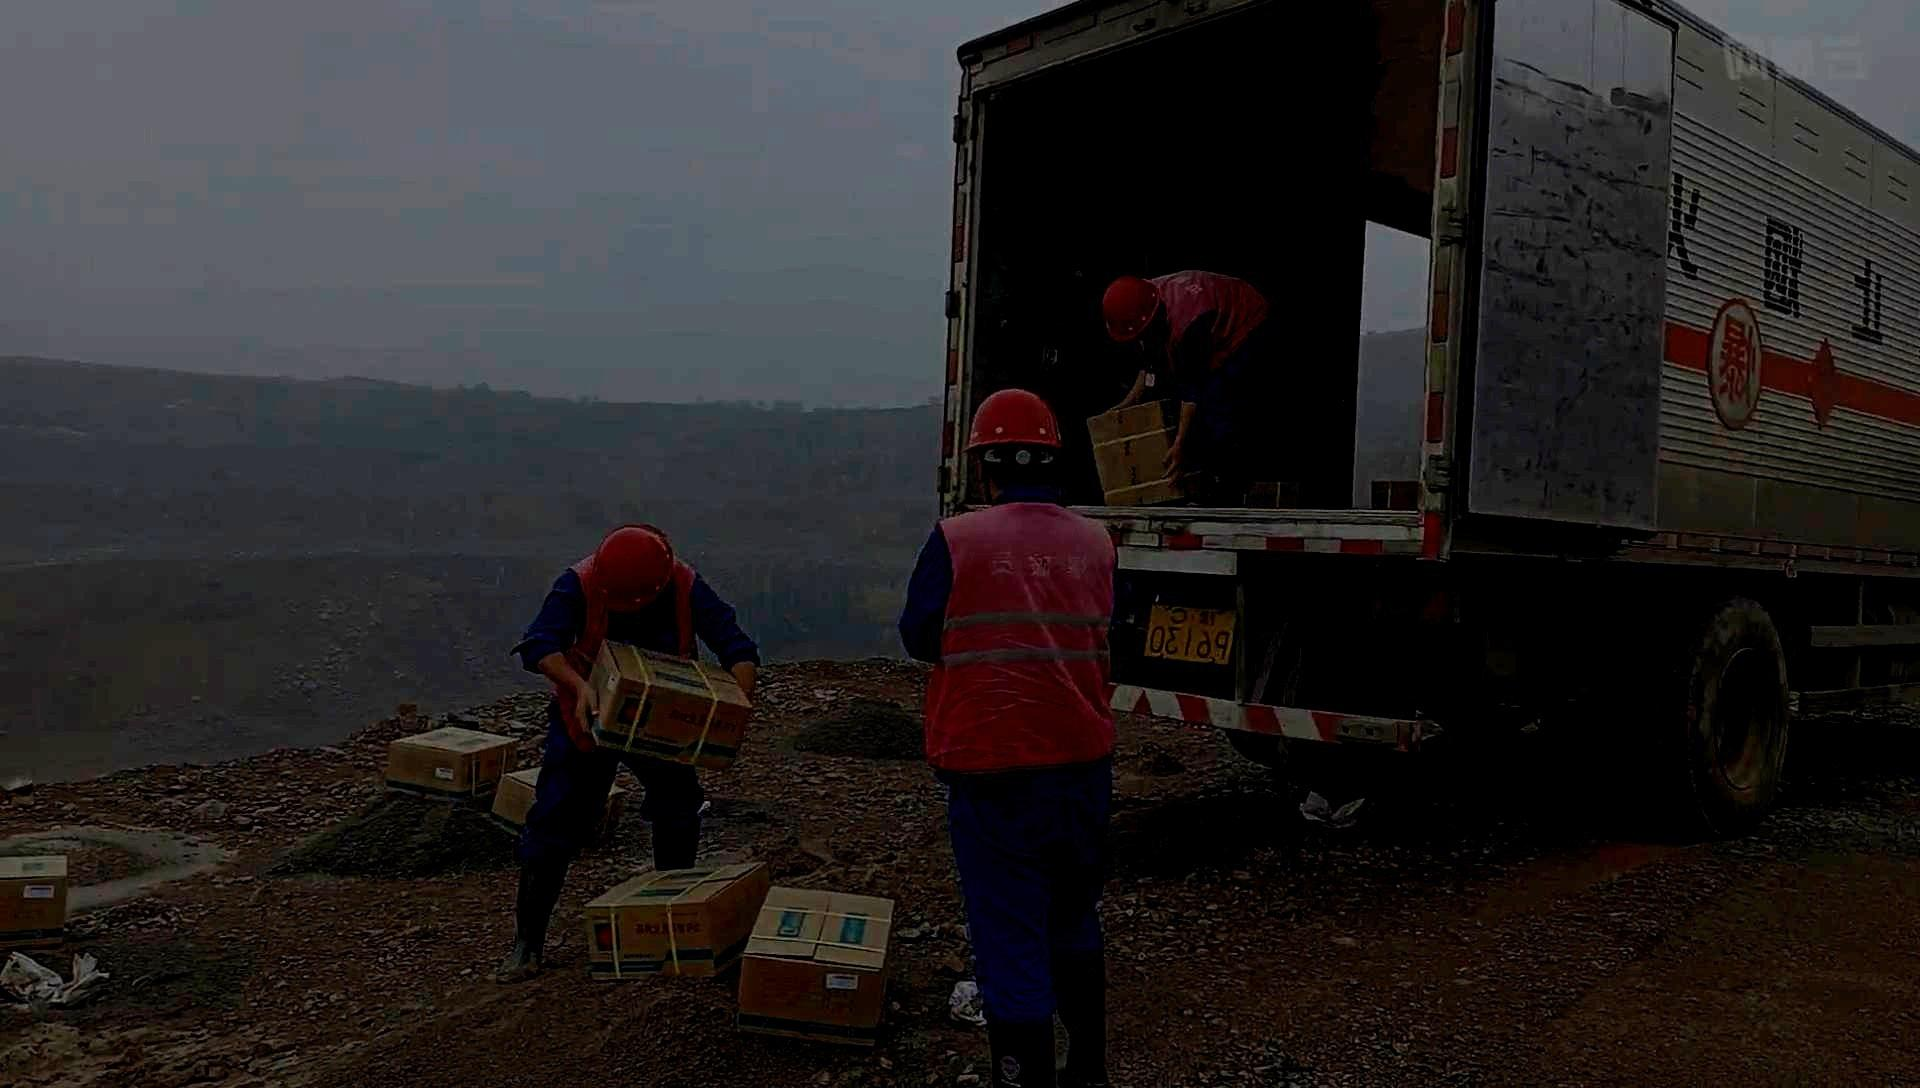helmet: (963, 386, 1064, 506), (588, 522, 675, 612), (1100, 273, 1164, 346)
